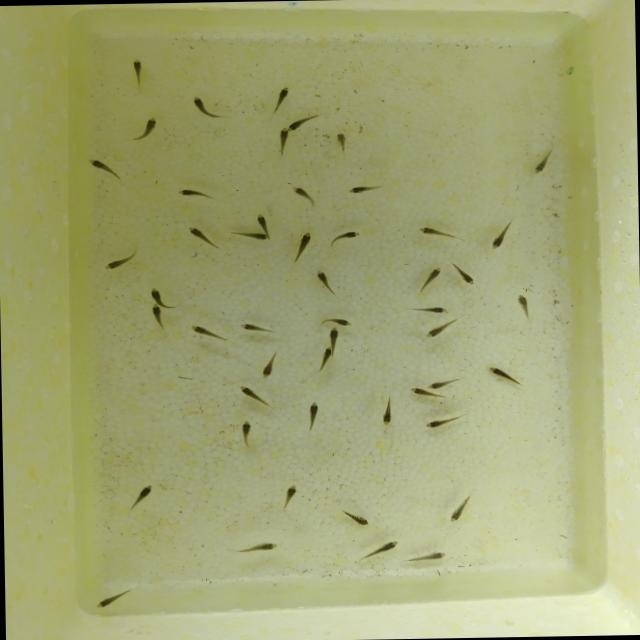fingerling: (242, 536, 287, 560), (419, 412, 460, 434), (406, 222, 456, 240), (292, 226, 316, 262), (311, 268, 340, 296), (236, 379, 266, 406), (478, 364, 525, 381), (444, 501, 472, 528), (448, 264, 479, 288), (365, 538, 404, 556), (94, 590, 128, 610), (86, 155, 115, 178), (413, 546, 454, 562), (506, 291, 534, 314), (421, 321, 453, 341), (234, 420, 258, 446), (340, 182, 376, 199), (238, 318, 270, 337), (132, 481, 156, 506), (256, 358, 281, 382), (316, 341, 334, 374), (187, 324, 223, 340), (484, 228, 510, 250), (238, 227, 268, 246), (140, 110, 160, 138), (188, 224, 212, 247), (530, 157, 554, 180), (421, 266, 442, 292), (96, 256, 130, 272), (148, 301, 168, 328), (376, 401, 395, 429), (330, 229, 368, 242), (421, 300, 448, 318), (127, 57, 149, 79), (143, 284, 168, 303), (419, 378, 466, 388), (280, 484, 299, 508), (274, 82, 293, 106), (328, 314, 358, 329), (170, 186, 207, 198), (288, 182, 312, 200), (192, 92, 208, 119), (408, 384, 436, 398), (306, 400, 318, 432), (250, 212, 274, 228), (344, 512, 371, 526), (324, 328, 346, 344), (278, 124, 290, 152), (289, 115, 305, 133), (334, 132, 350, 146)
